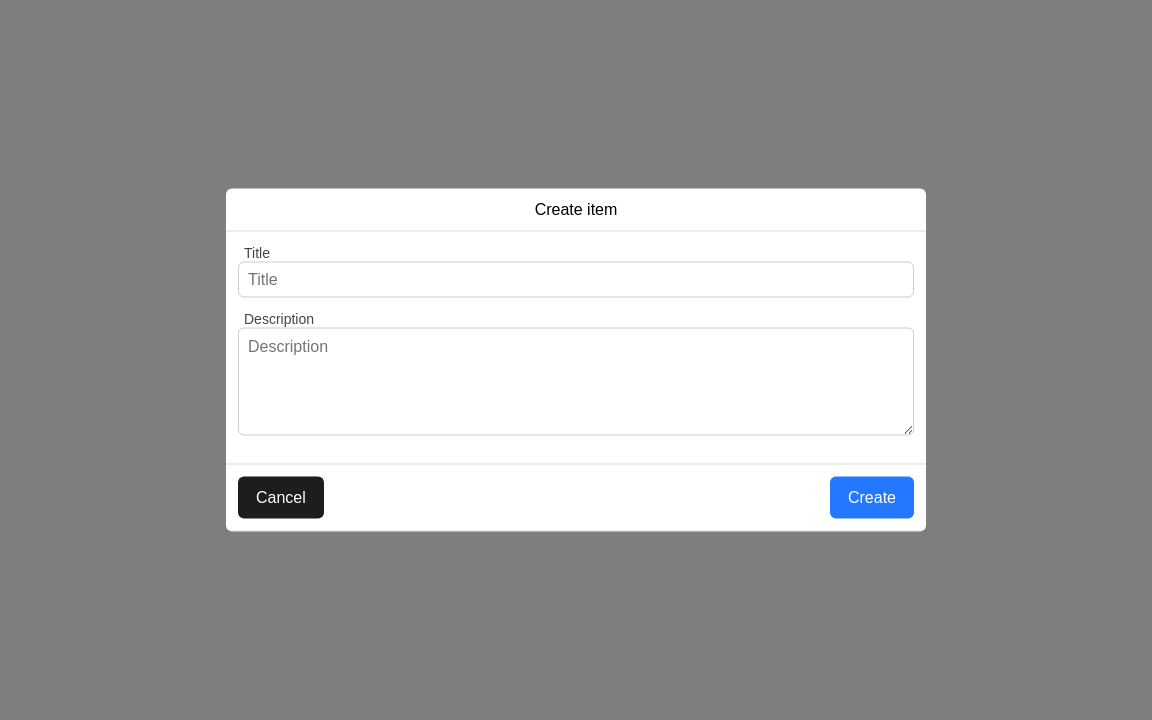
ModalItemCreation › blocks submission and shows errors when title and description are empty
Click the button "Create" at (872, 498), box top-left (830, 476), bottom-right (914, 518)
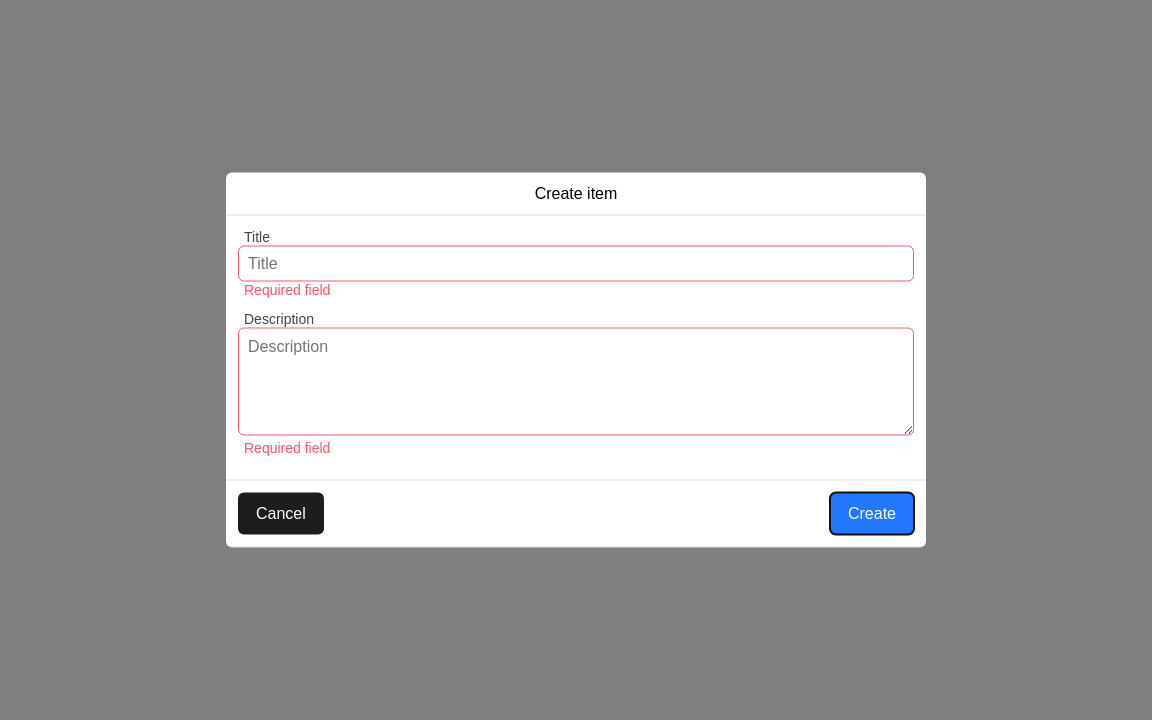
Expected: the text "Required field" is shown 2 times, top-left (244, 282), bottom-right (330, 298); top-left (244, 440), bottom-right (330, 456)
